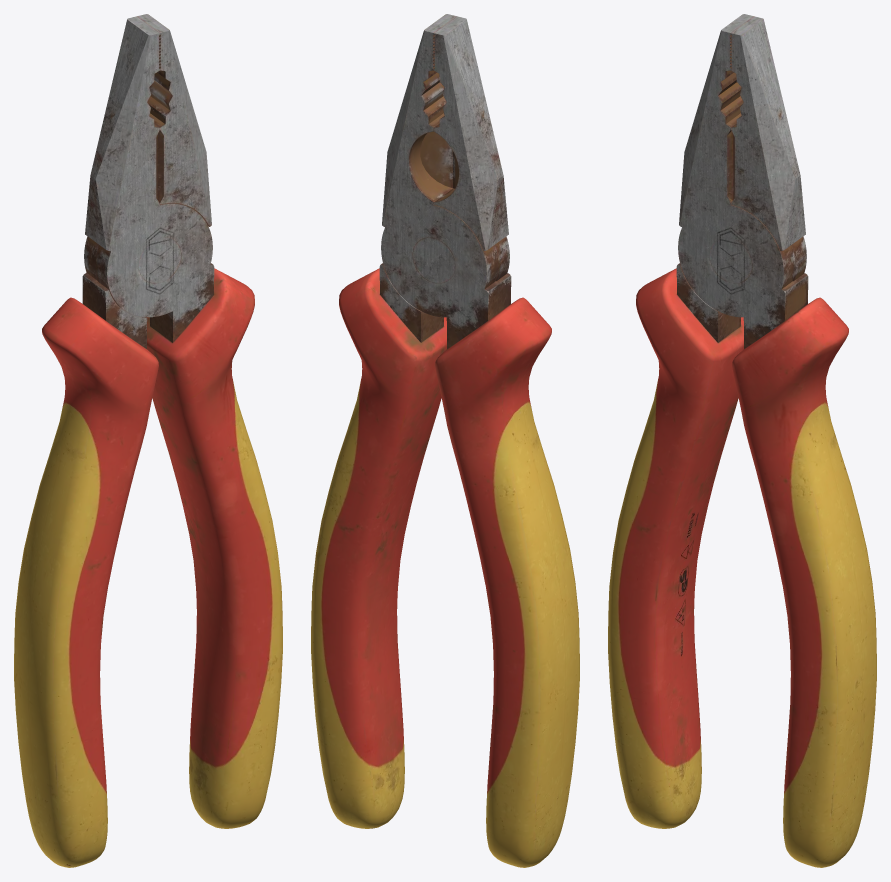
The model's file is pliers.glb.
The picture shows the model from 3 angles, left to right: view 1: azimuth 30°, elevation 25°; view 2: azimuth 150°, elevation 25°; view 3: azimuth 330°, elevation 25°; orthographic projection.
Visible parts, largest first — view 1: pliers_b; view 2: pliers_b; view 3: pliers_b.
Boxes of the visible parts, x1,y1,x2,y2 form: pliers_b: (14,14,282,867); pliers_b: (311,14,579,867); pliers_b: (608,14,876,867).
Bounding box in the file's own units: 0.0553 × 0.1798 × 0.018.
1 material, 1 textured.
